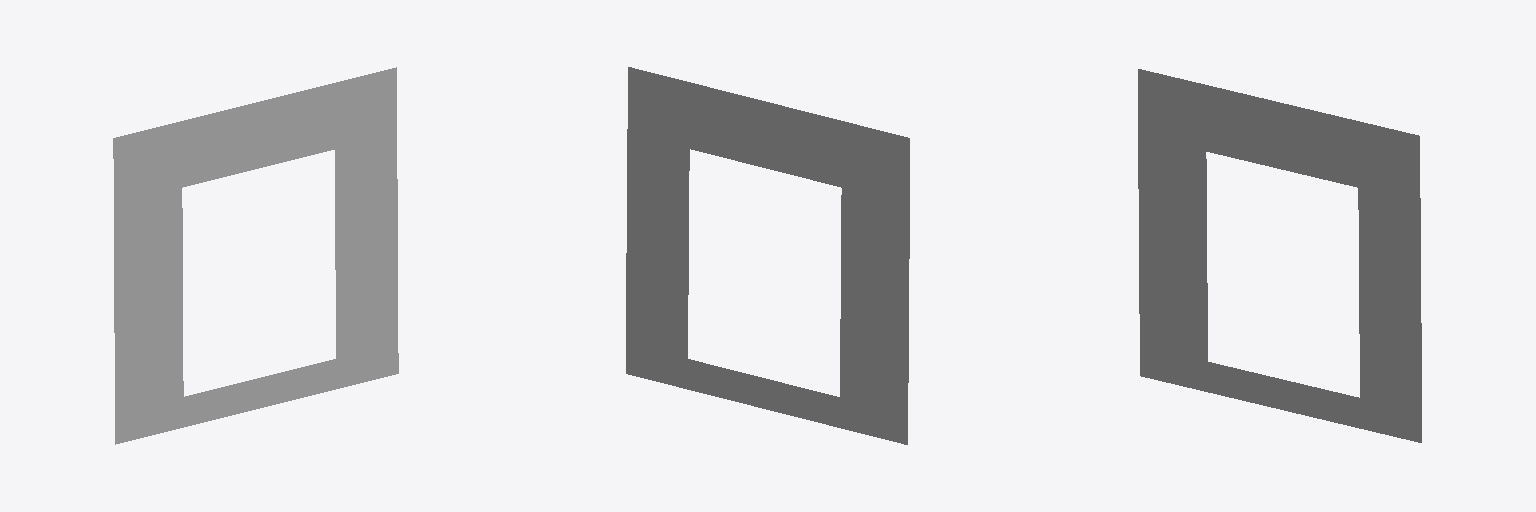
Rendered from floor2.obj.
The picture shows the model from 3 angles: view 1: azimuth 30°, elevation 25°; view 2: azimuth 150°, elevation 25°; view 3: azimuth 330°, elevation 25°; orthographic projection.
Parts seen in each view (by area): view 1: floor8:Mesh; view 2: floor8:Mesh; view 3: floor8:Mesh.
Boxes of the visible parts, x1=… form: floor8:Mesh: x1=113, y1=67, x2=398, y2=444; floor8:Mesh: x1=626, y1=67, x2=909, y2=444; floor8:Mesh: x1=1138, y1=69, x2=1421, y2=442.
Size of the model in its own units: 16.86 by 17.5 by 0.0882.